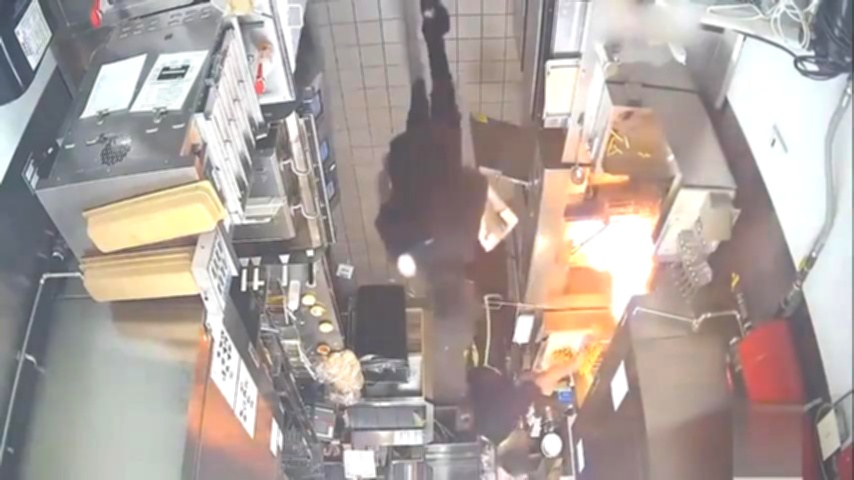fire: (556, 195, 664, 332)
